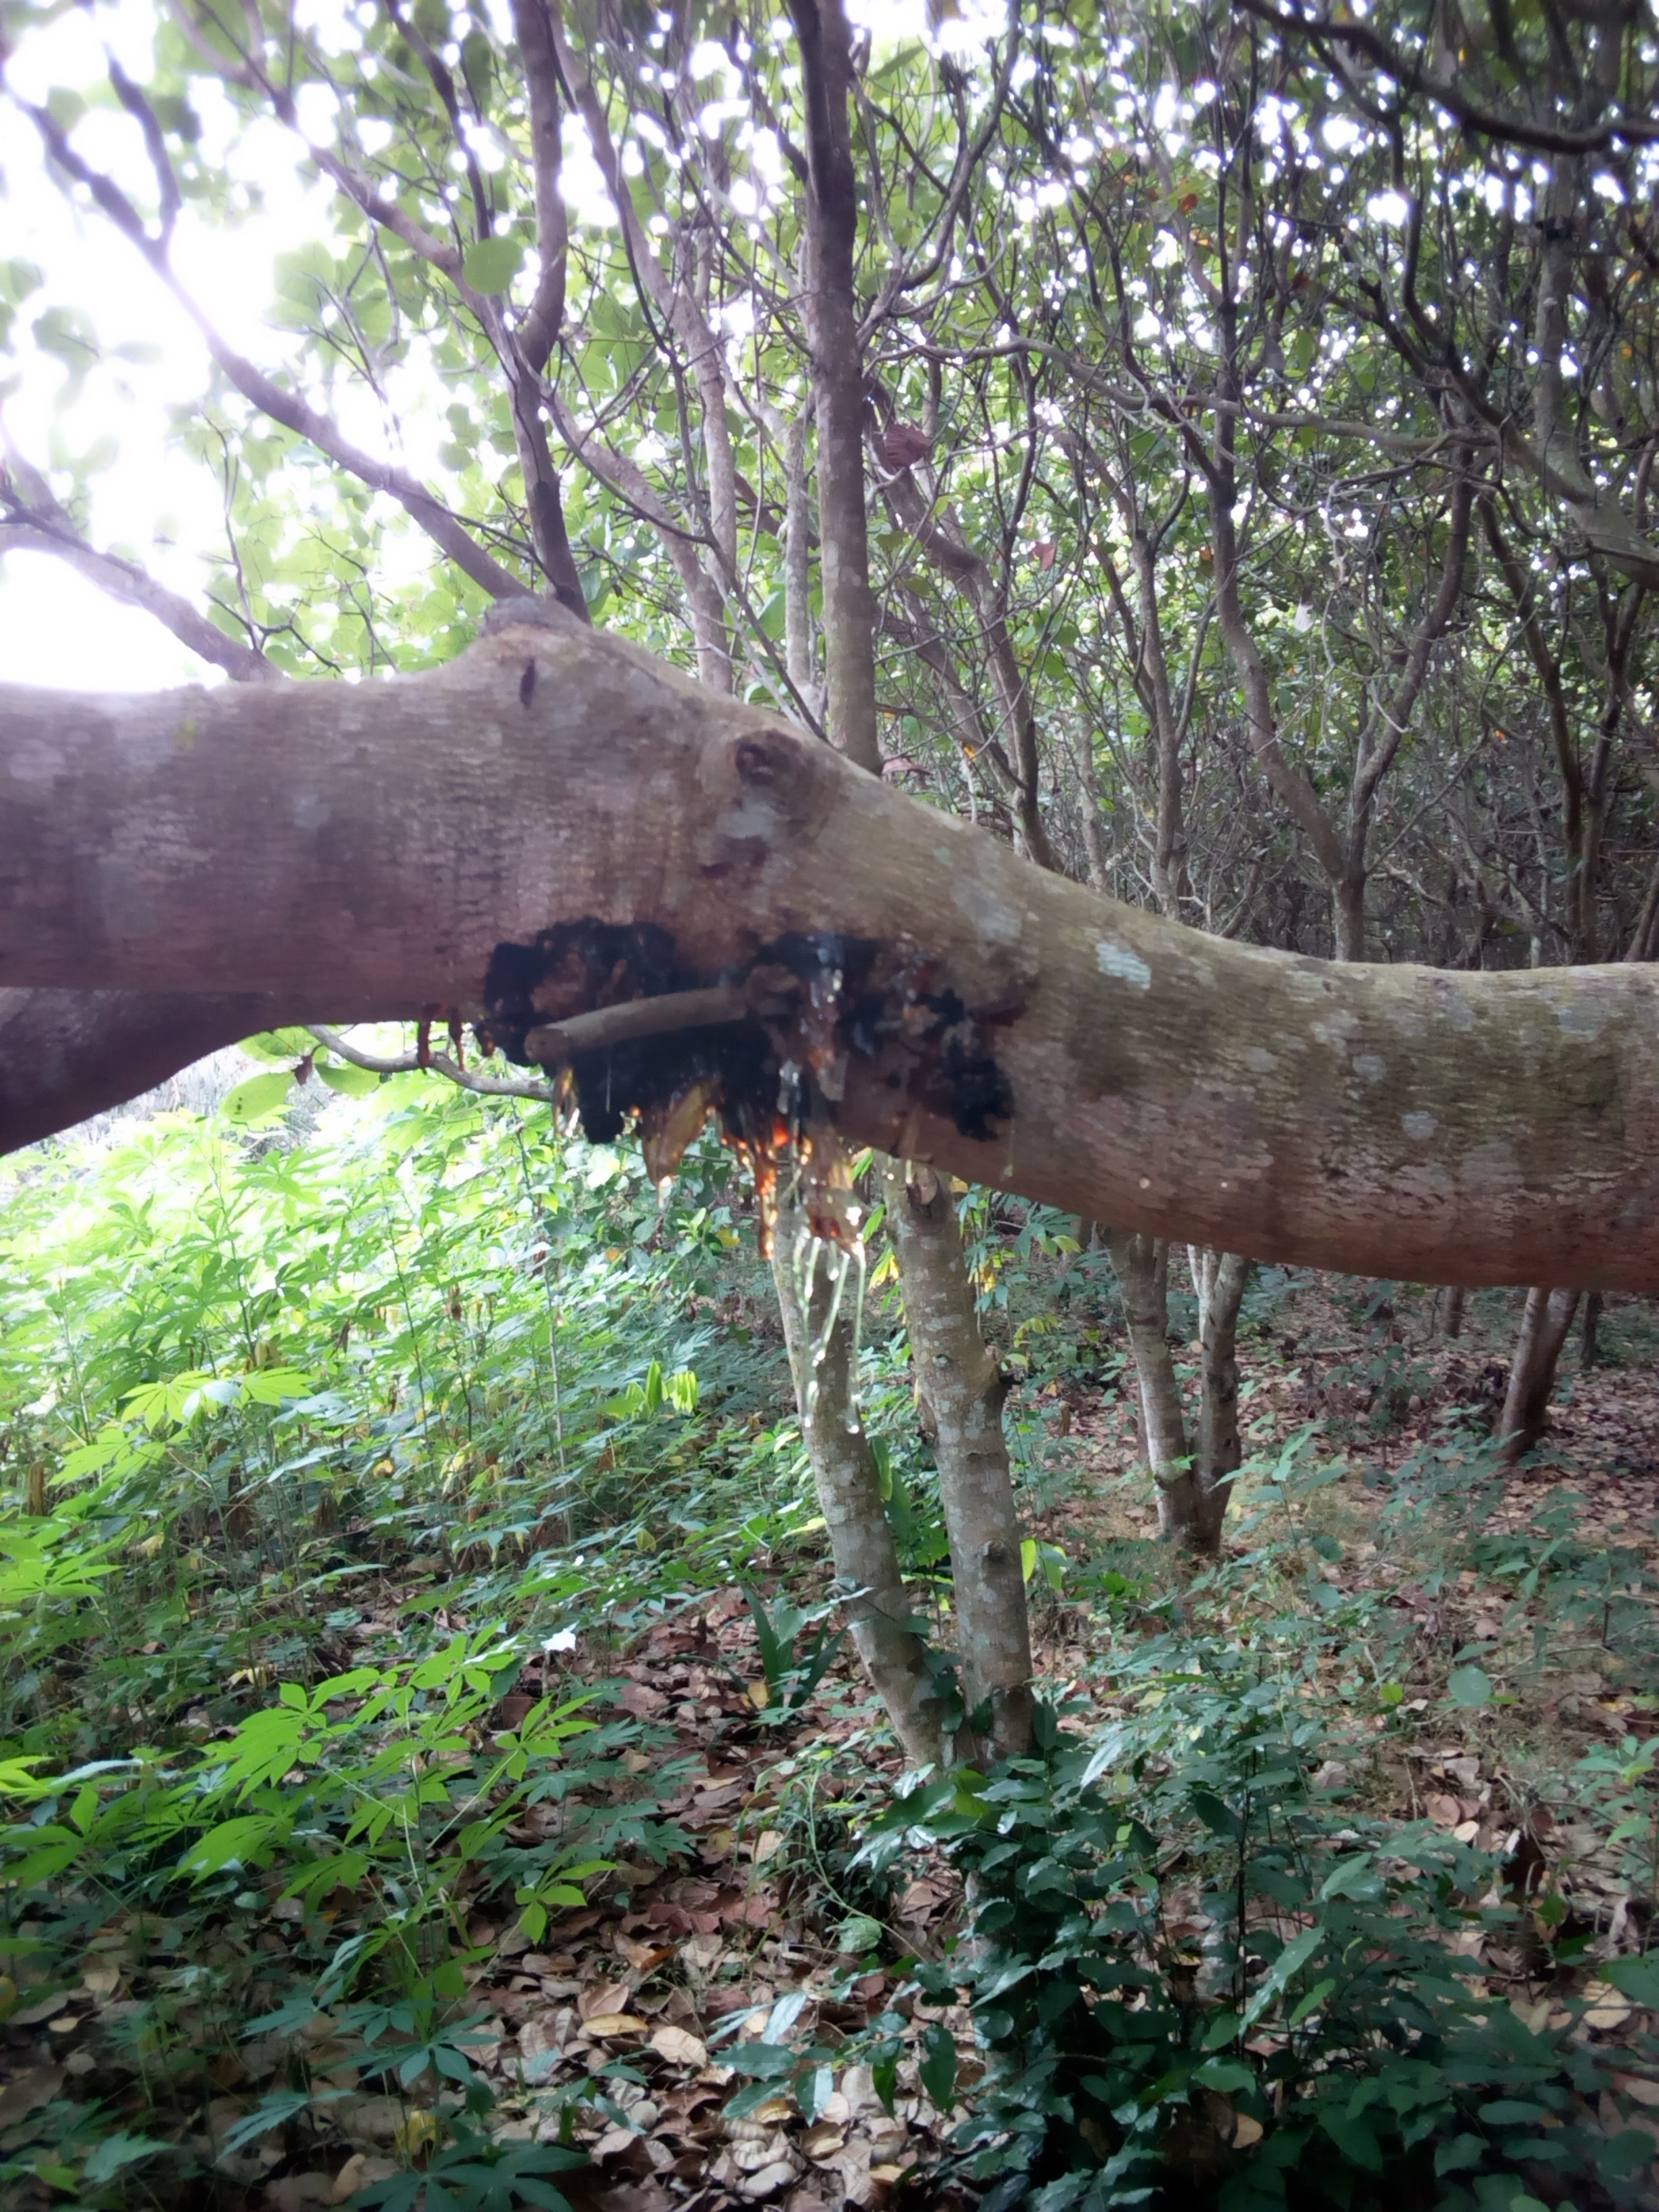Mecocorynus longiceps: (464, 873, 1030, 1231)
